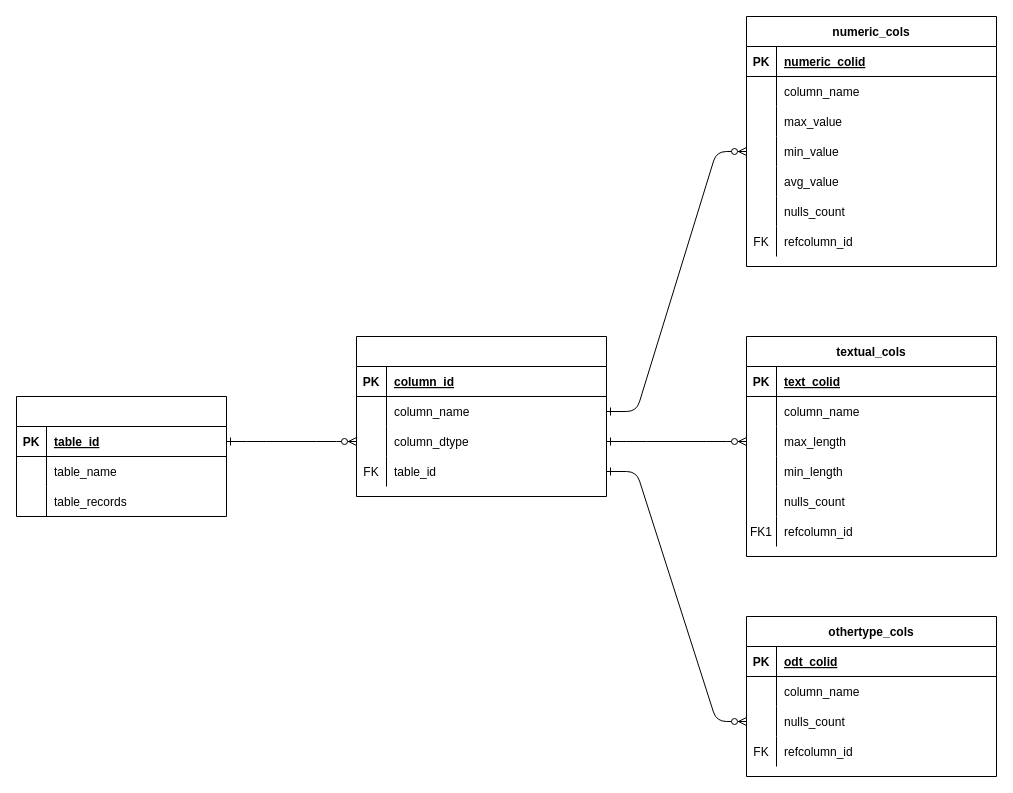
This 1013x793 diagram has some shape labels left out. The box of each missing label's shape, as (x1, y1, x2, y2) in pixels:
columns_metadata: (356, 336, 606, 496)
table_metadata: (16, 396, 226, 516)
